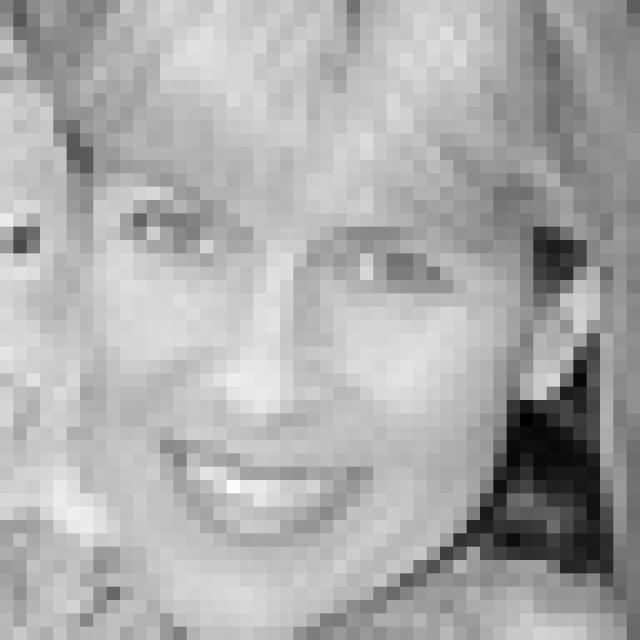happy: (98, 161, 502, 560)
